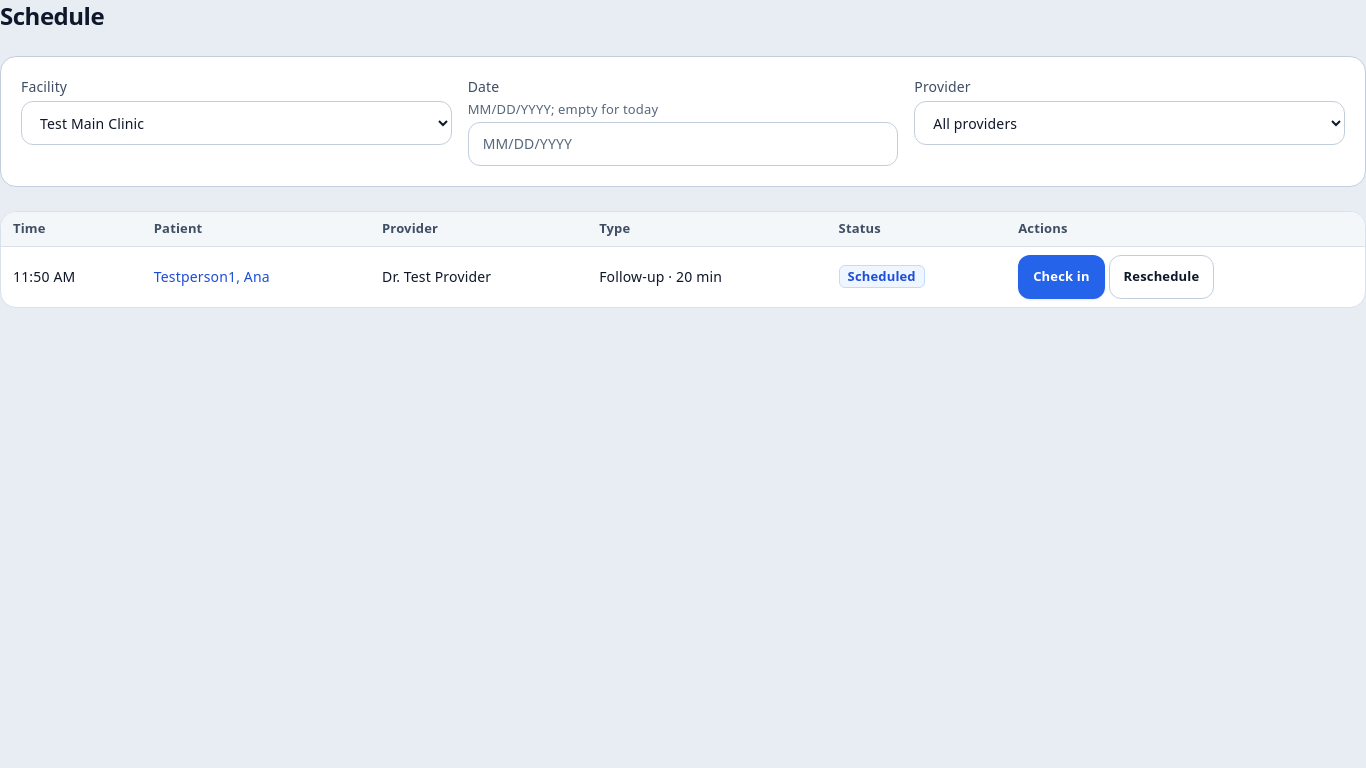
Test: SchedulePage › checks in with a required Idempotency-Key and self-pay when chosen, then reloads
Click the button with aria-label "Check in Testperson1, Ana" at x=1061, y=277, box left=1018, top=255, right=1105, bottom=299
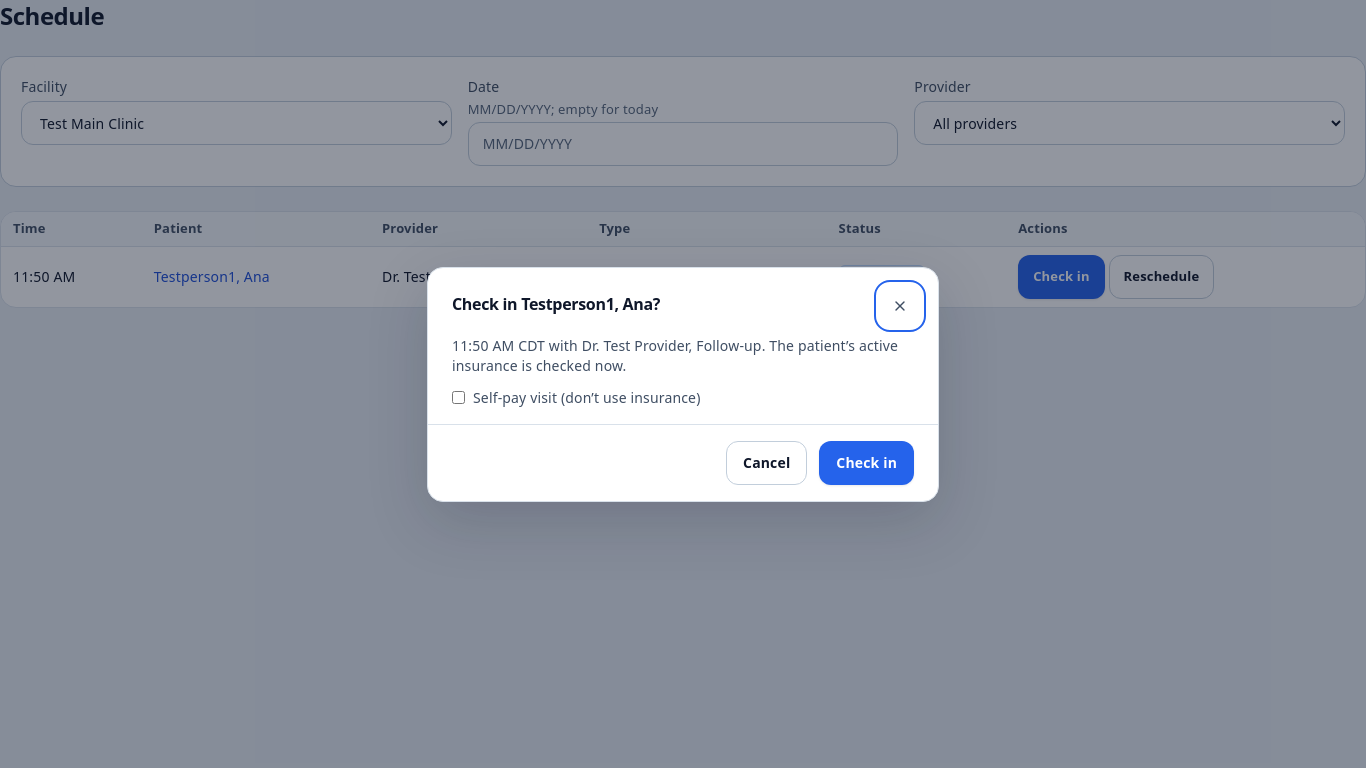
Click the checkbox labelled "Self-pay visit (don’t use insurance)" at x=458, y=398, box left=452, top=391, right=465, bottom=404
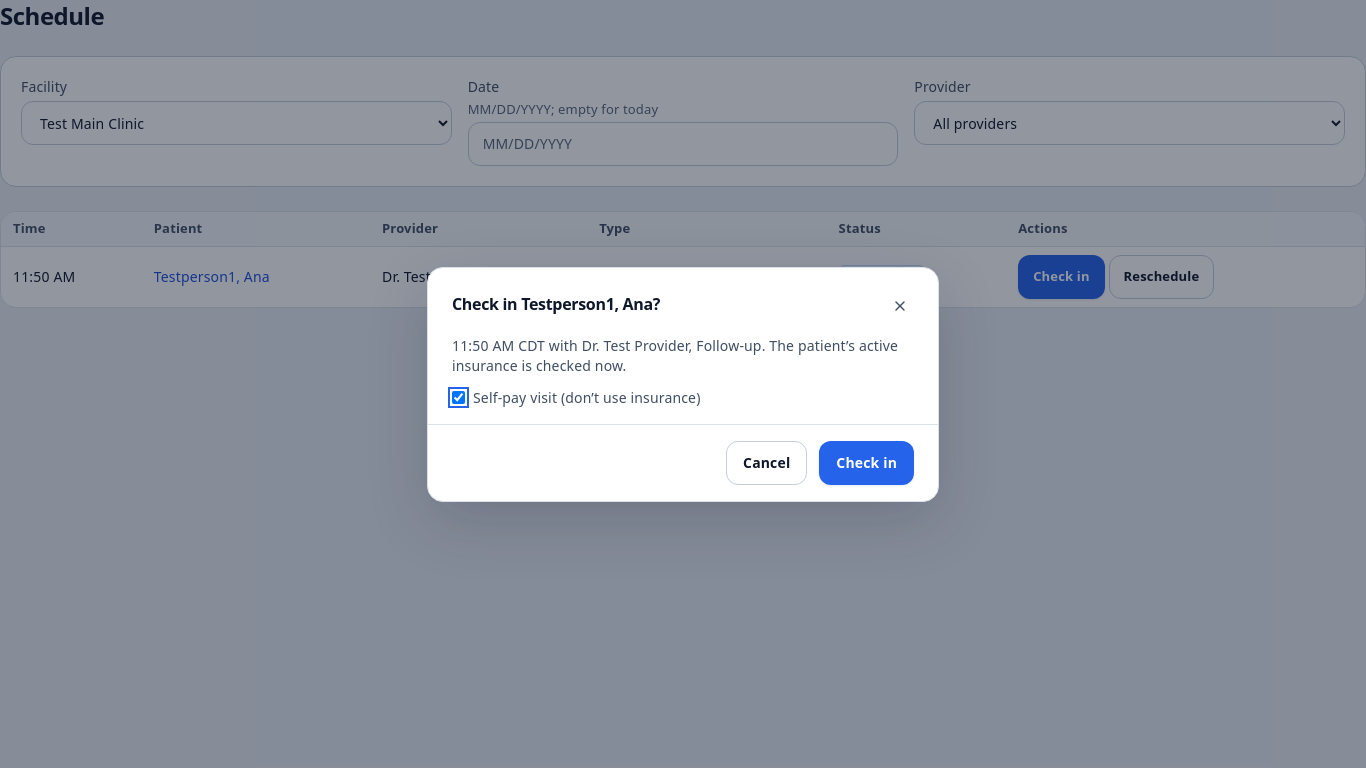
Click the button "Check in" at x=867, y=462, box left=819, top=440, right=914, bottom=484
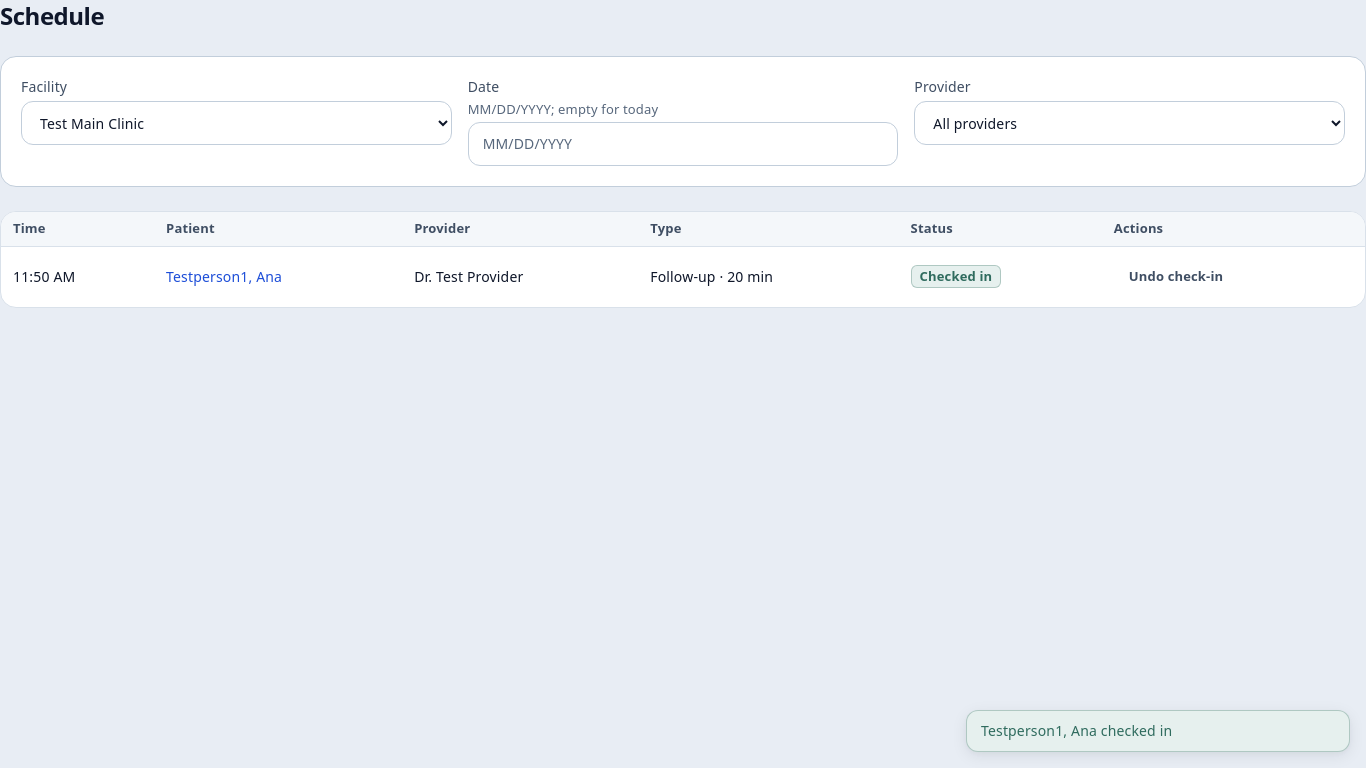
Now the text "Testperson1, Ana checked in" is shown, box left=966, top=710, right=1350, bottom=752
Now the button "Undo check-in" is shown, box left=1114, top=255, right=1238, bottom=299
